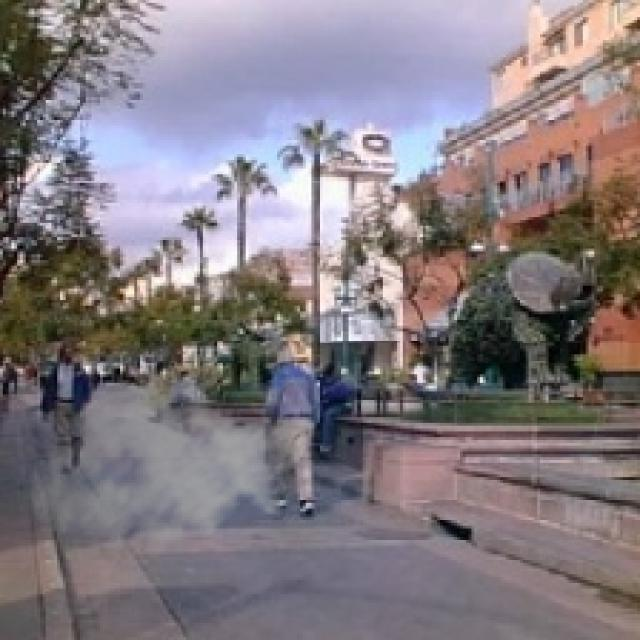smoke: (25, 368, 308, 568)
